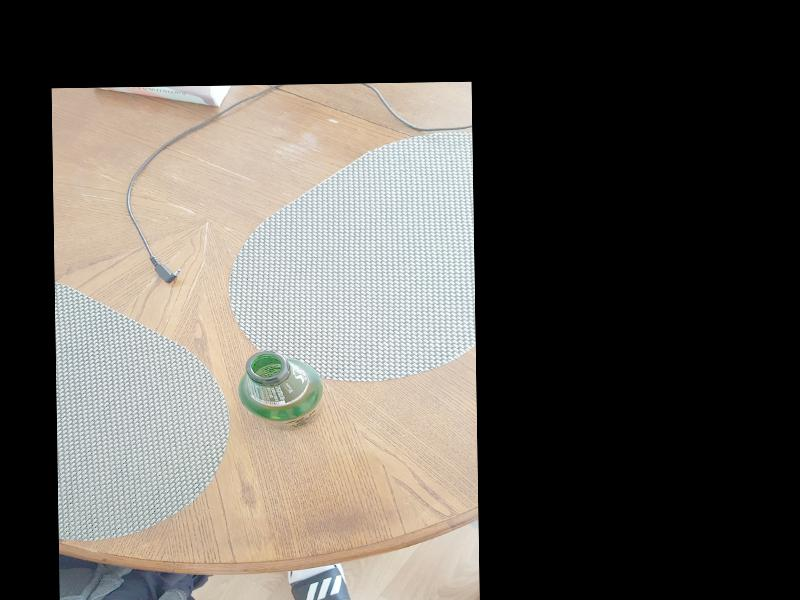Beer: (237, 350, 323, 430)
